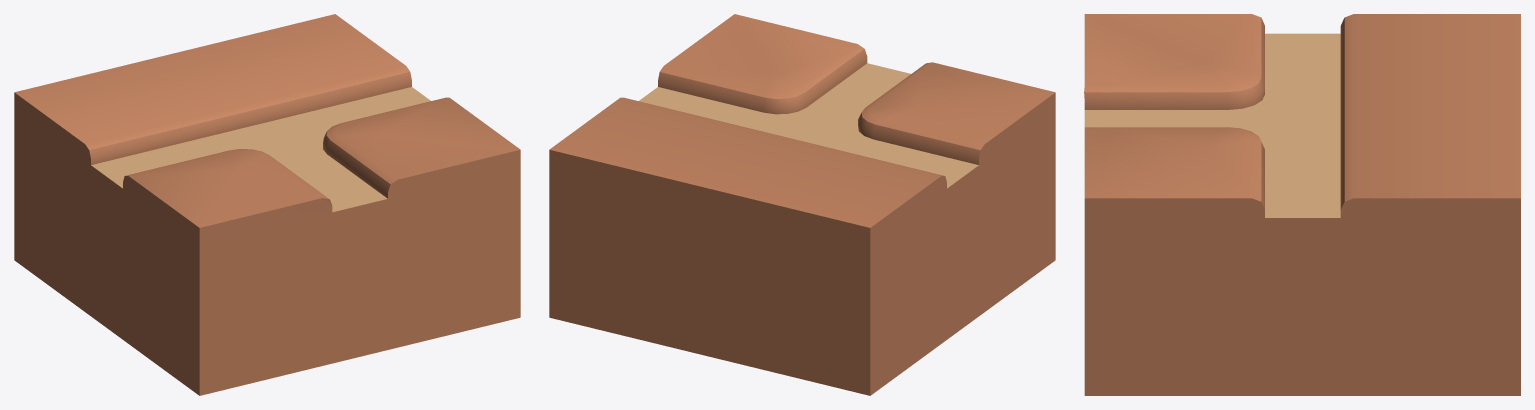
File: kaykit-square-rock-roadd.glb
The picture shows the model from 3 angles, left to right: view 1: azimuth 30°, elevation 25°; view 2: azimuth 150°, elevation 25°; view 3: azimuth 270°, elevation 25°; orthographic projection. The views are drawn at different scales.
Visible parts, largest first — view 1: square_rock_roadD; view 2: square_rock_roadD; view 3: square_rock_roadD.
Part boxes in pixels (bbox=[...]): square_rock_roadD: bbox=[14, 14, 520, 395]; square_rock_roadD: bbox=[549, 14, 1055, 395]; square_rock_roadD: bbox=[1084, 14, 1520, 395].
Size of the model in its own units: 2 by 1 by 2.
